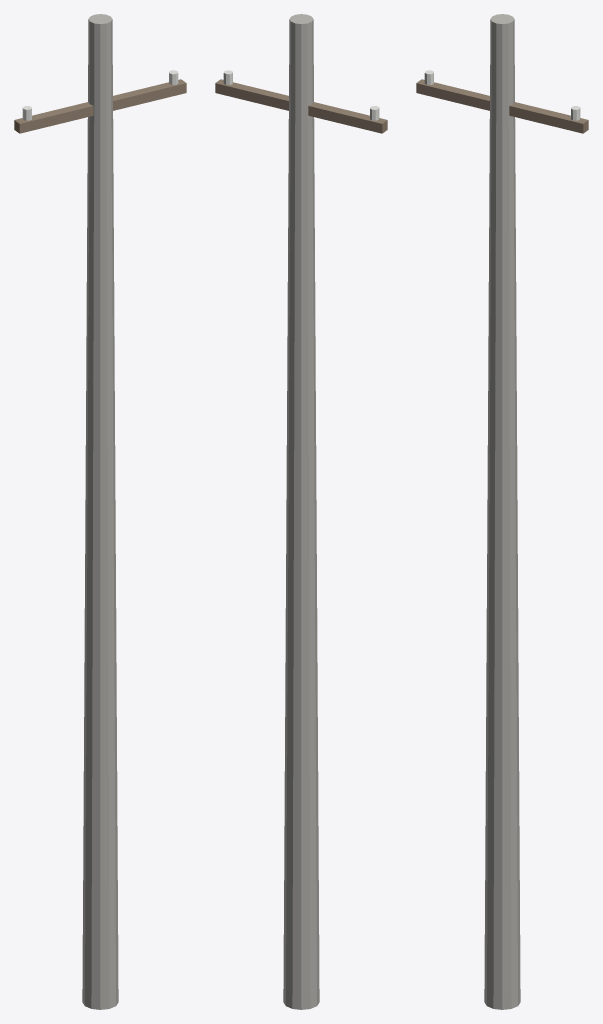
The model's file is pole.glb.
3 views of the same model, side by side, from view 1: azimuth 30°, elevation 25°; view 2: azimuth 150°, elevation 25°; view 3: azimuth 330°, elevation 25° (orthographic).
Parts seen in each view (by area): view 1: Pole, CrossArm; view 2: Pole, CrossArm; view 3: Pole, CrossArm.
Part boxes in pixels (box(x1,y1,x2,y2)): Pole: box(82, 14, 118, 1009); CrossArm: box(14, 79, 186, 133); Pole: box(283, 14, 319, 1009); CrossArm: box(215, 79, 387, 133); Pole: box(484, 14, 520, 1009); CrossArm: box(416, 79, 588, 133).
Size of the model in its own units: 1.6 by 9 by 0.3.
